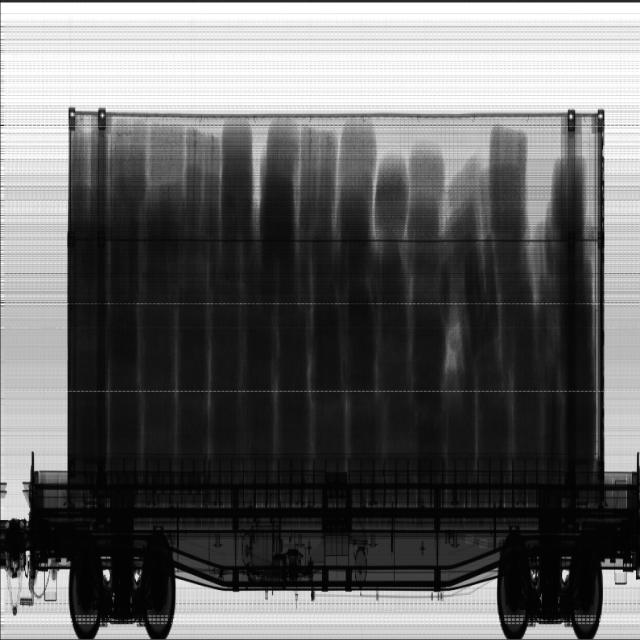textile: (72, 122, 596, 458)
